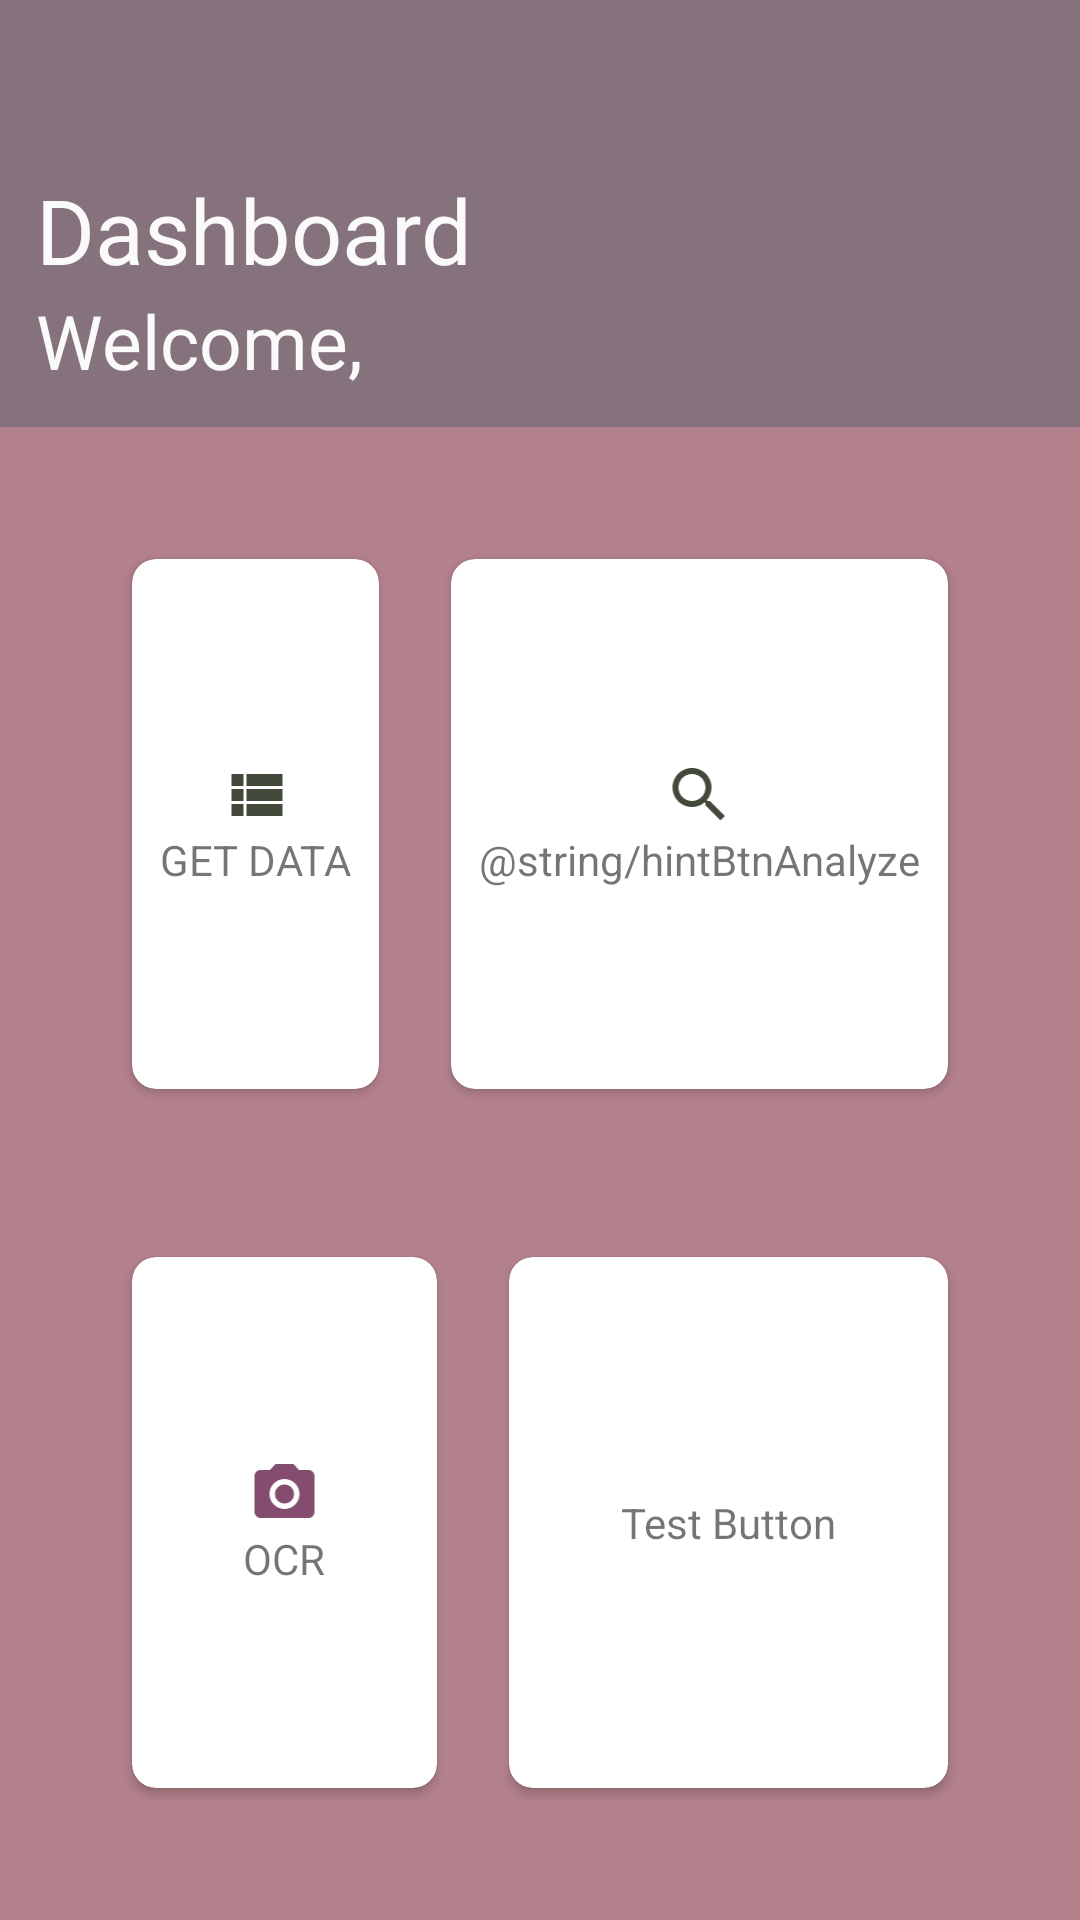

Point at icon controls on the screen. Image size 1080 × 1920, points as (x,y).
camera: (284,1491)
loupe: (698,794)
searchlist: (257,795)
